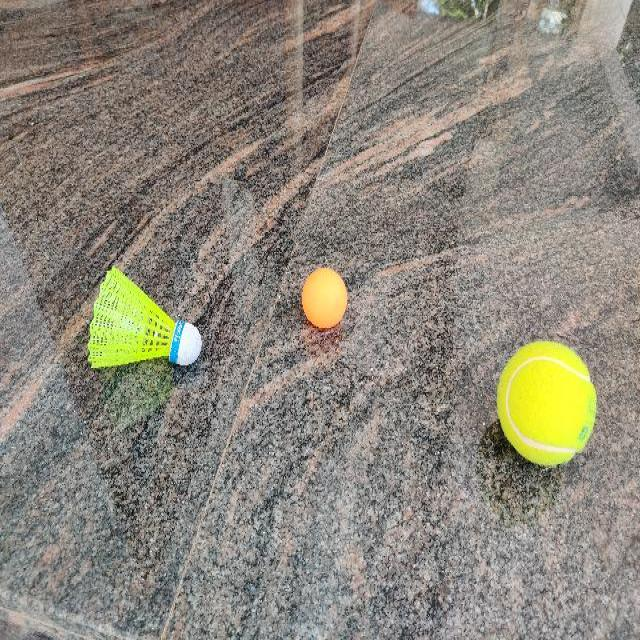ping-pong-ball: (300, 268, 346, 328)
